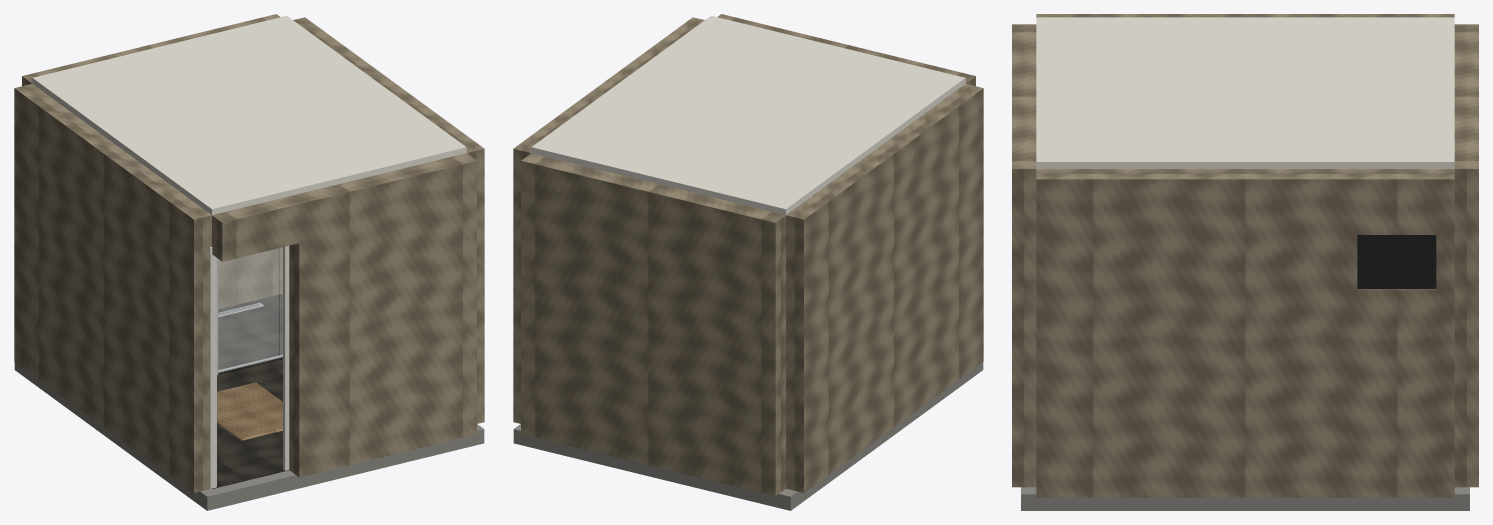
Rendered from 4_Planlanan_2.glb.
3 renders of one model, left to right at view 1: azimuth 30°, elevation 25°; view 2: azimuth 150°, elevation 25°; view 3: azimuth 270°, elevation 25°, orthographic. The views are drawn at different scales.
Parts seen in each view (by area): view 1: Ön duvar | sunum için gizli, Sol duvar, Tavan | plan görünümünde gizlenir, Kabin ön sabit cam, Zemin taşıyıcı, Sağ duvar / gerçek pencere boşluğu, Arka duvar / gerçek niş boşlukları, Duş eğimli zemin sınırı 120x100, Dokulu banyo paspası, Zemin seramik / derz 2mm, Kapı pervazı, Kapı pervazı.001 (+2 smaller); view 2: Arka duvar / gerçek niş boşlukları, Sol duvar, Tavan | plan görünümünde gizlenir, Zemin taşıyıcı, Sağ duvar / gerçek pencere boşluğu, Ön duvar | sunum için gizli; view 3: Sağ duvar / gerçek pencere boşluğu, Tavan | plan görünümünde gizlenir, Arka duvar / gerçek niş boşlukları, Ön duvar | sunum için gizli, Zemin taşıyıcı, Havalandırma karanlık iç boşluğu, Sol duvar.
Boxes of the visible parts, x1,y1,x2,y2 form: Ön duvar | sunum için gizli: [212, 153, 476, 477]; Sol duvar: [14, 83, 211, 492]; Tavan | plan görünümünde gizlenir: [32, 16, 466, 214]; Kabin ön sabit cam: [218, 248, 278, 370]; Zemin taşıyıcı: [14, 362, 484, 510]; Sağ duvar / gerçek pencere boşluğu: [293, 17, 484, 423]; Arka duvar / gerçek niş boşlukları: [22, 14, 282, 308]; Duş eğimli zemin sınırı 120x100: [218, 293, 282, 374]; Dokulu banyo paspası: [217, 382, 282, 440]; Zemin seramik / derz 2mm: [212, 443, 279, 488]; Kapı pervazı: [210, 252, 216, 488]; Kapı pervazı.001: [283, 245, 289, 470]; Arka duvar / gerçek niş boşlukları: [521, 153, 785, 496]; Sol duvar: [786, 83, 983, 492]; Tavan | plan görünümünde gizlenir: [531, 16, 965, 214]; Zemin taşıyıcı: [513, 362, 983, 510]; Sağ duvar / gerçek pencere boşluğu: [513, 17, 704, 423]; Ön duvar | sunum için gizli: [717, 14, 975, 86]; Sağ duvar / gerçek pencere boşluğu: [1036, 169, 1454, 497]; Tavan | plan görünümünde gizlenir: [1036, 17, 1454, 168]; Arka duvar / gerçek niş boşlukları: [1454, 24, 1478, 487]; Ön duvar | sunum için gizli: [1012, 24, 1036, 487]; Zemin taşıyıcı: [1021, 487, 1469, 510]; Havalandırma karanlık iç boşluğu: [1357, 235, 1436, 289]; Sol duvar: [1036, 14, 1454, 17].
Bounding box in the file's own units: 2.57 × 2.49 × 3.07.
Materials: 15 (4 with a texture image).
